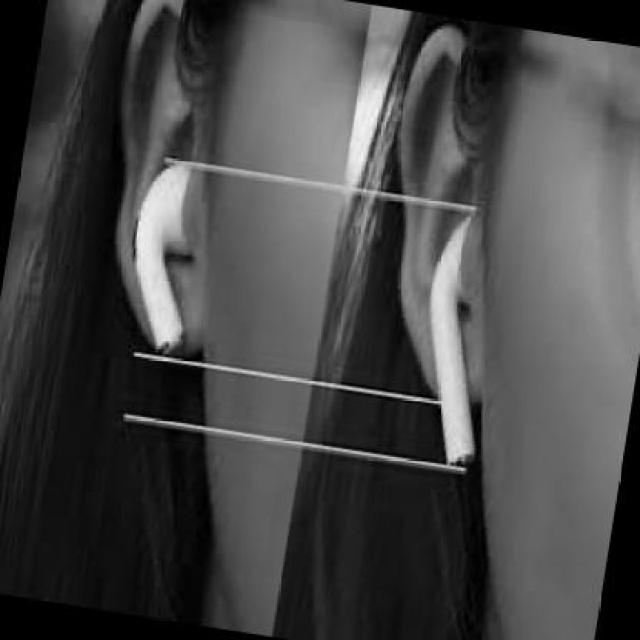earphone: (410, 194, 512, 472), (109, 156, 233, 353)
